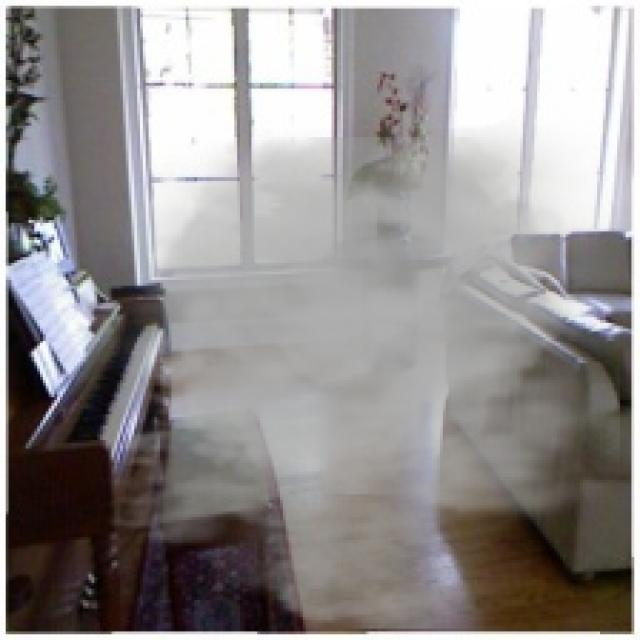Smoke: (54, 106, 620, 628)
